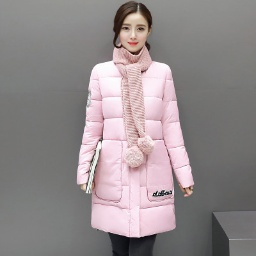face: (111, 2, 157, 54)
